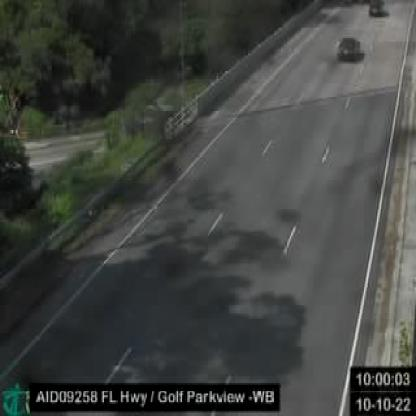Car: (337, 36, 360, 61), (368, 1, 387, 18)
